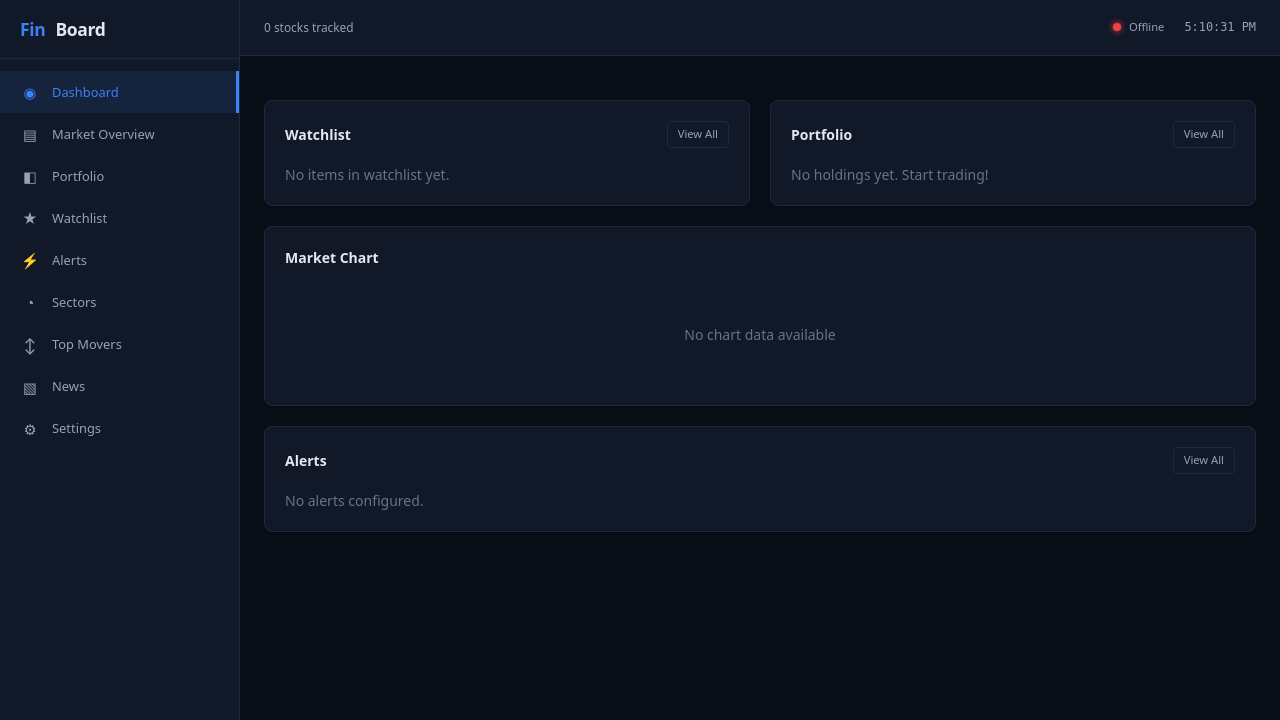
Dashboard › navigates to market overview
The width and height of the screenshot is (1280, 720).
Step 1. Click the link "▤ Market Overview" → (89, 134), box x1=23 y1=124 x2=155 y2=144
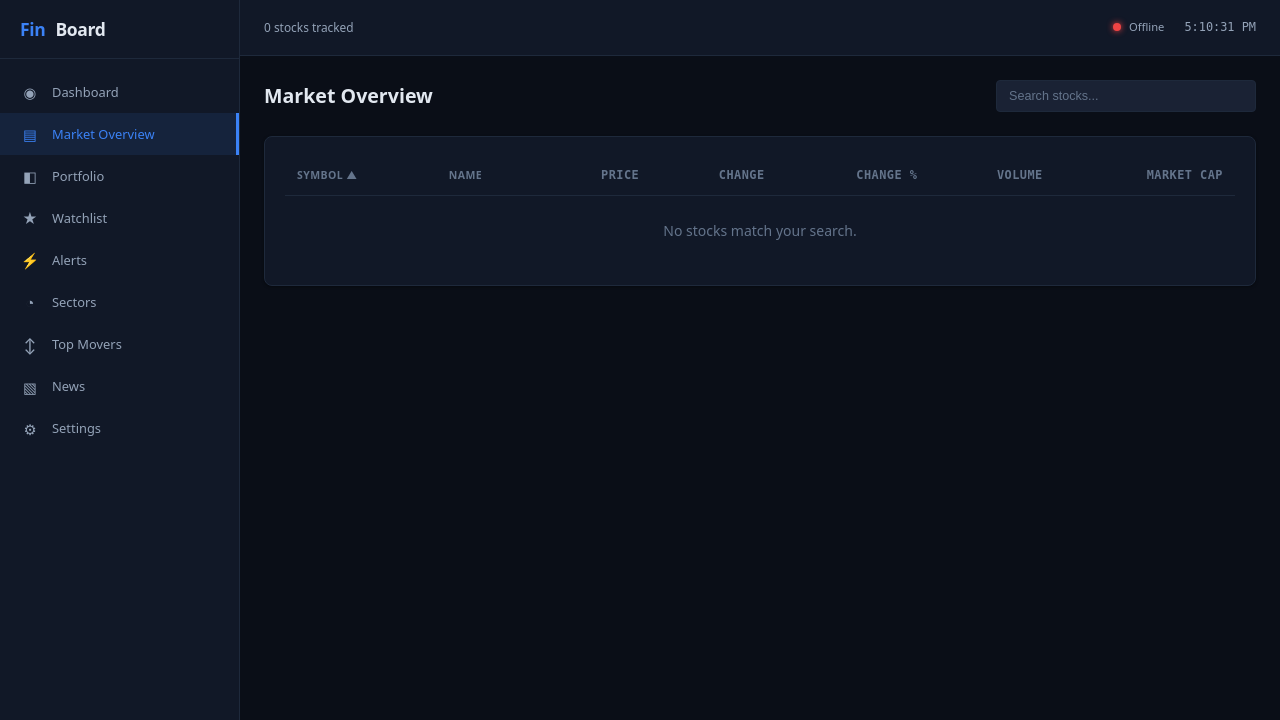
Expected: the table is shown, x1=285 y1=157 x2=1235 y2=196
